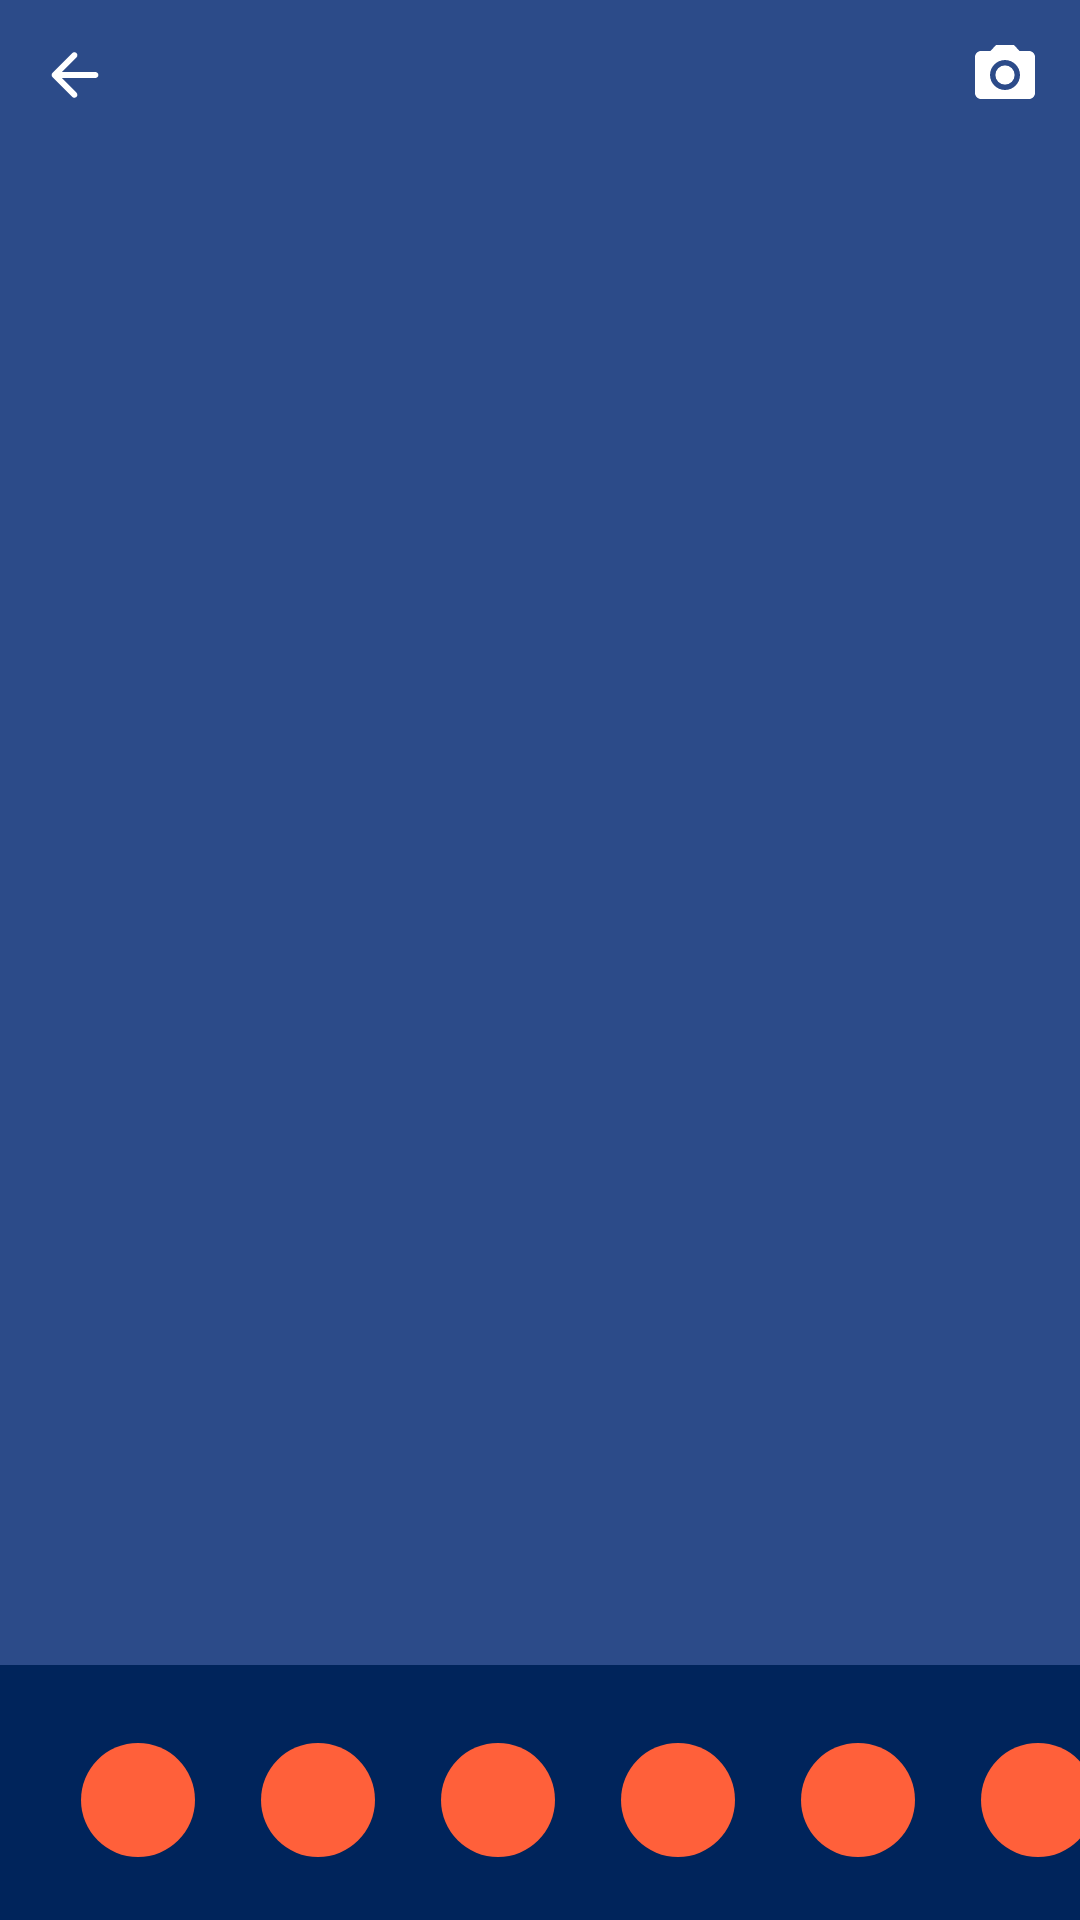

Icons on this 1080 x 1920 Android screen, each with its box as (x1, y1, x2, y2):
arrow back: (51, 52, 99, 98)
camera: (975, 45, 1035, 99)
